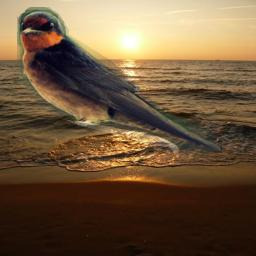Swallow: (17, 7, 222, 153)
